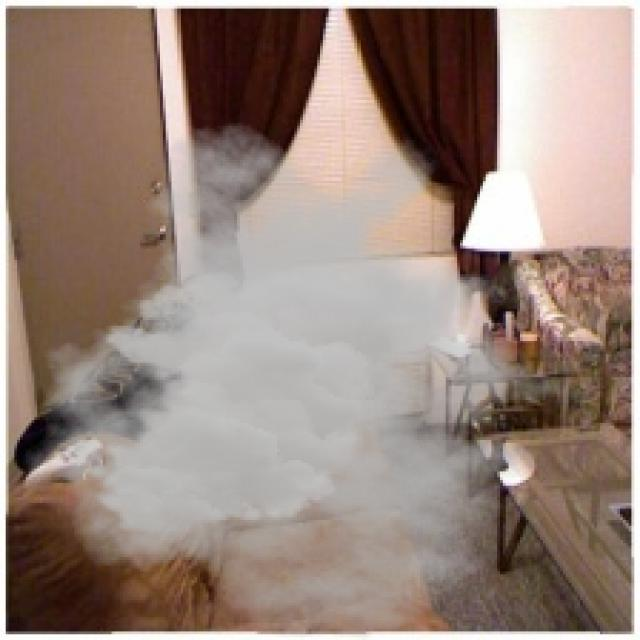smoke: (23, 120, 591, 637)
